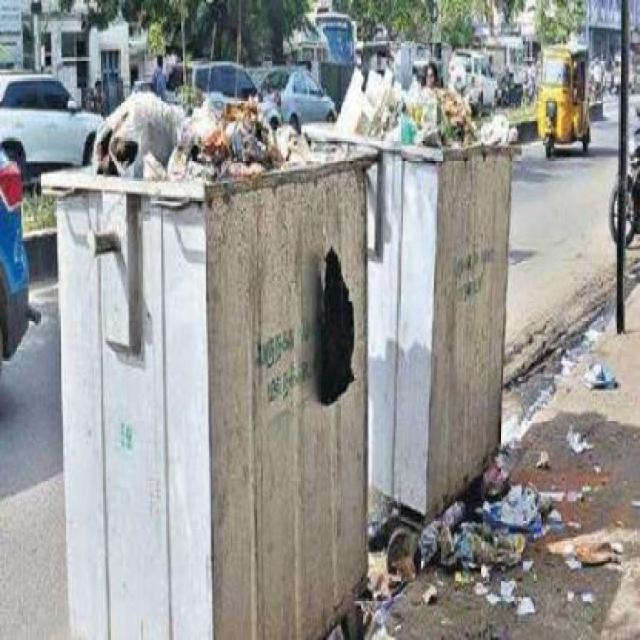garbage: (80, 85, 308, 191), (411, 457, 544, 578), (345, 66, 489, 150)
